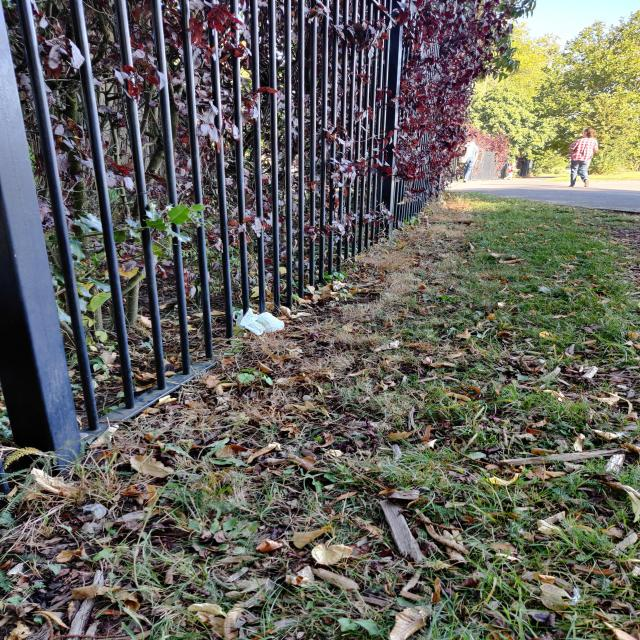litter: (231, 306, 287, 337)
